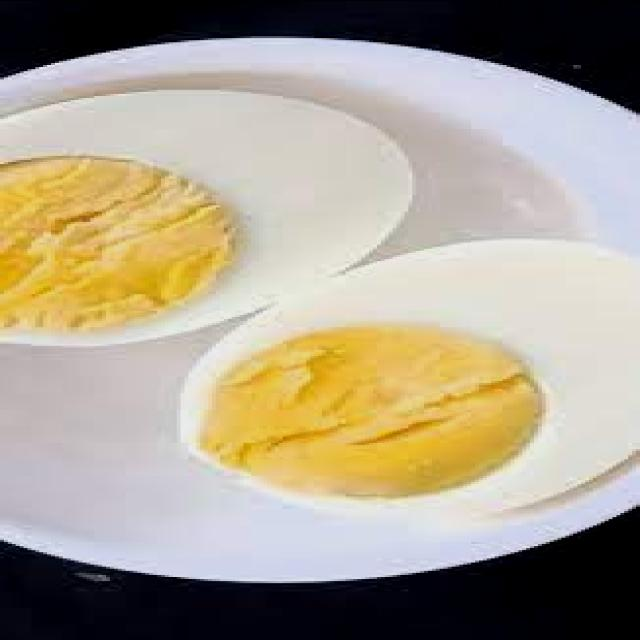telur rebus: (181, 237, 640, 522), (0, 87, 416, 347)
